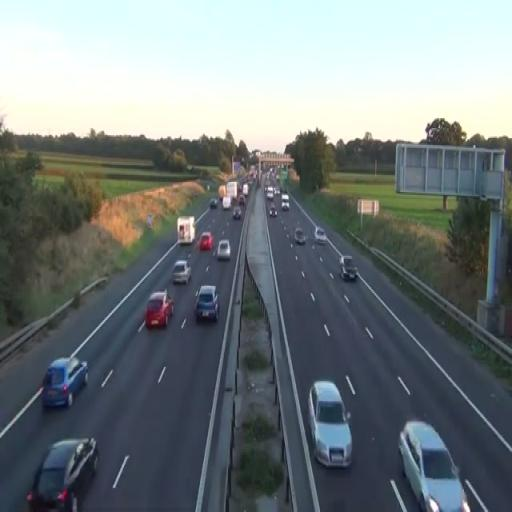Car: (397, 419, 465, 512), (26, 436, 100, 511), (308, 380, 353, 469), (42, 354, 88, 410), (145, 290, 174, 330), (194, 284, 220, 323), (172, 259, 192, 284), (339, 255, 358, 281), (216, 239, 230, 262), (198, 231, 214, 251), (314, 227, 326, 244), (232, 207, 242, 220), (269, 206, 277, 218)
Truck: (177, 216, 195, 245)
